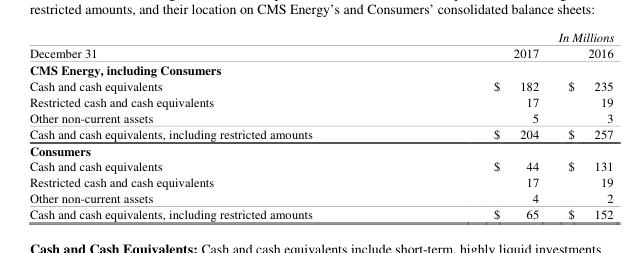table: (28, 29, 613, 221)
table column: (28, 29, 402, 221), (402, 29, 552, 221), (552, 29, 613, 221)
table column header: (28, 29, 613, 60)
table projected row header: (28, 60, 613, 77), (28, 141, 613, 157)
table row: (28, 60, 613, 77), (28, 108, 613, 125), (28, 44, 613, 60), (28, 92, 613, 108), (28, 125, 613, 141), (28, 141, 613, 157), (28, 157, 613, 173), (28, 173, 613, 189), (28, 189, 613, 205), (28, 205, 613, 221), (28, 29, 613, 44), (28, 77, 613, 92)
table spanning cell: (28, 29, 402, 60), (402, 29, 613, 44)
